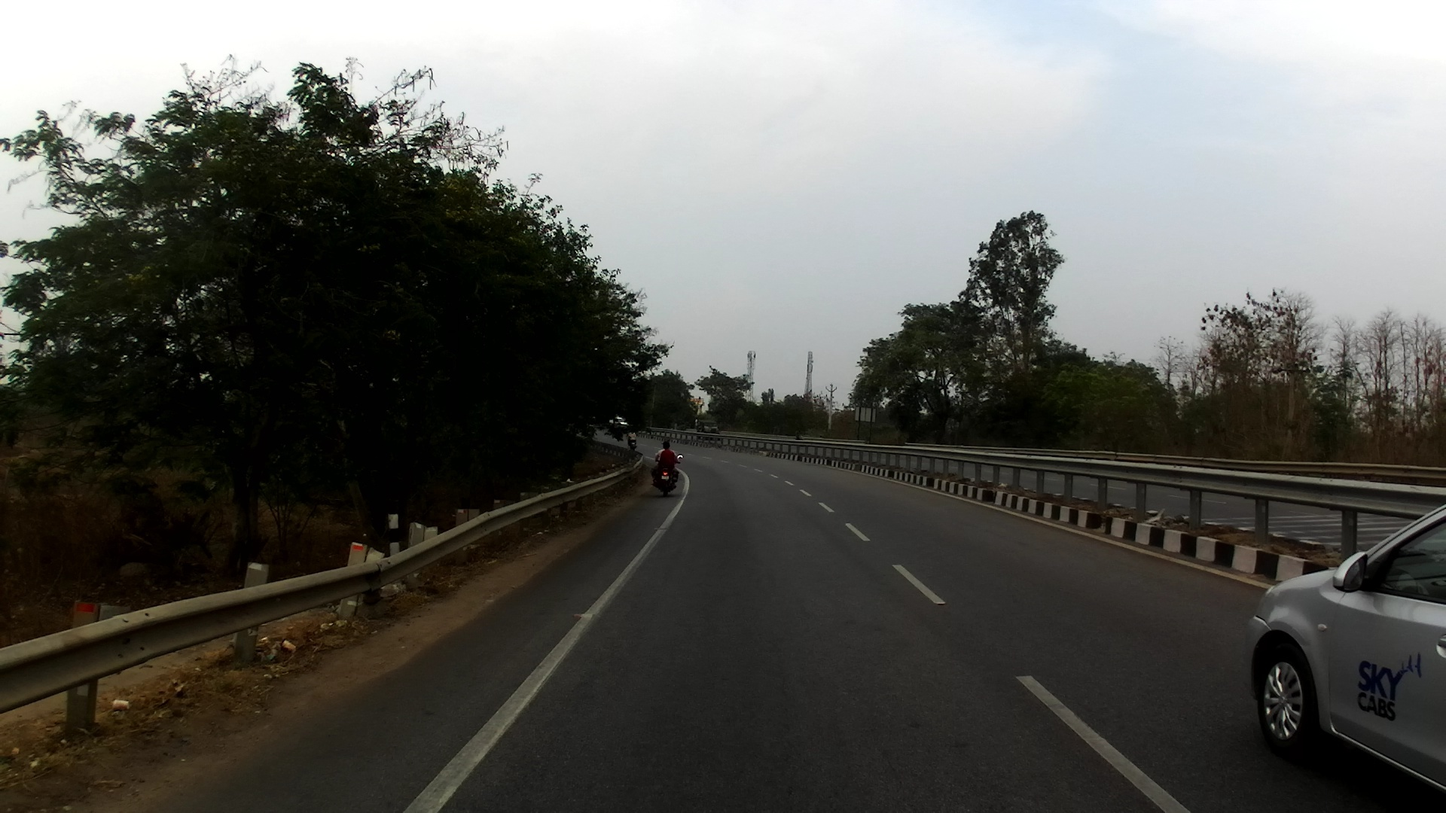car: (1249, 499, 1446, 800), (697, 420, 720, 436), (612, 416, 629, 426)
motorcycle: (655, 454, 684, 498), (628, 437, 636, 449)
rider: (651, 439, 676, 487), (656, 439, 676, 483), (629, 428, 636, 446)
